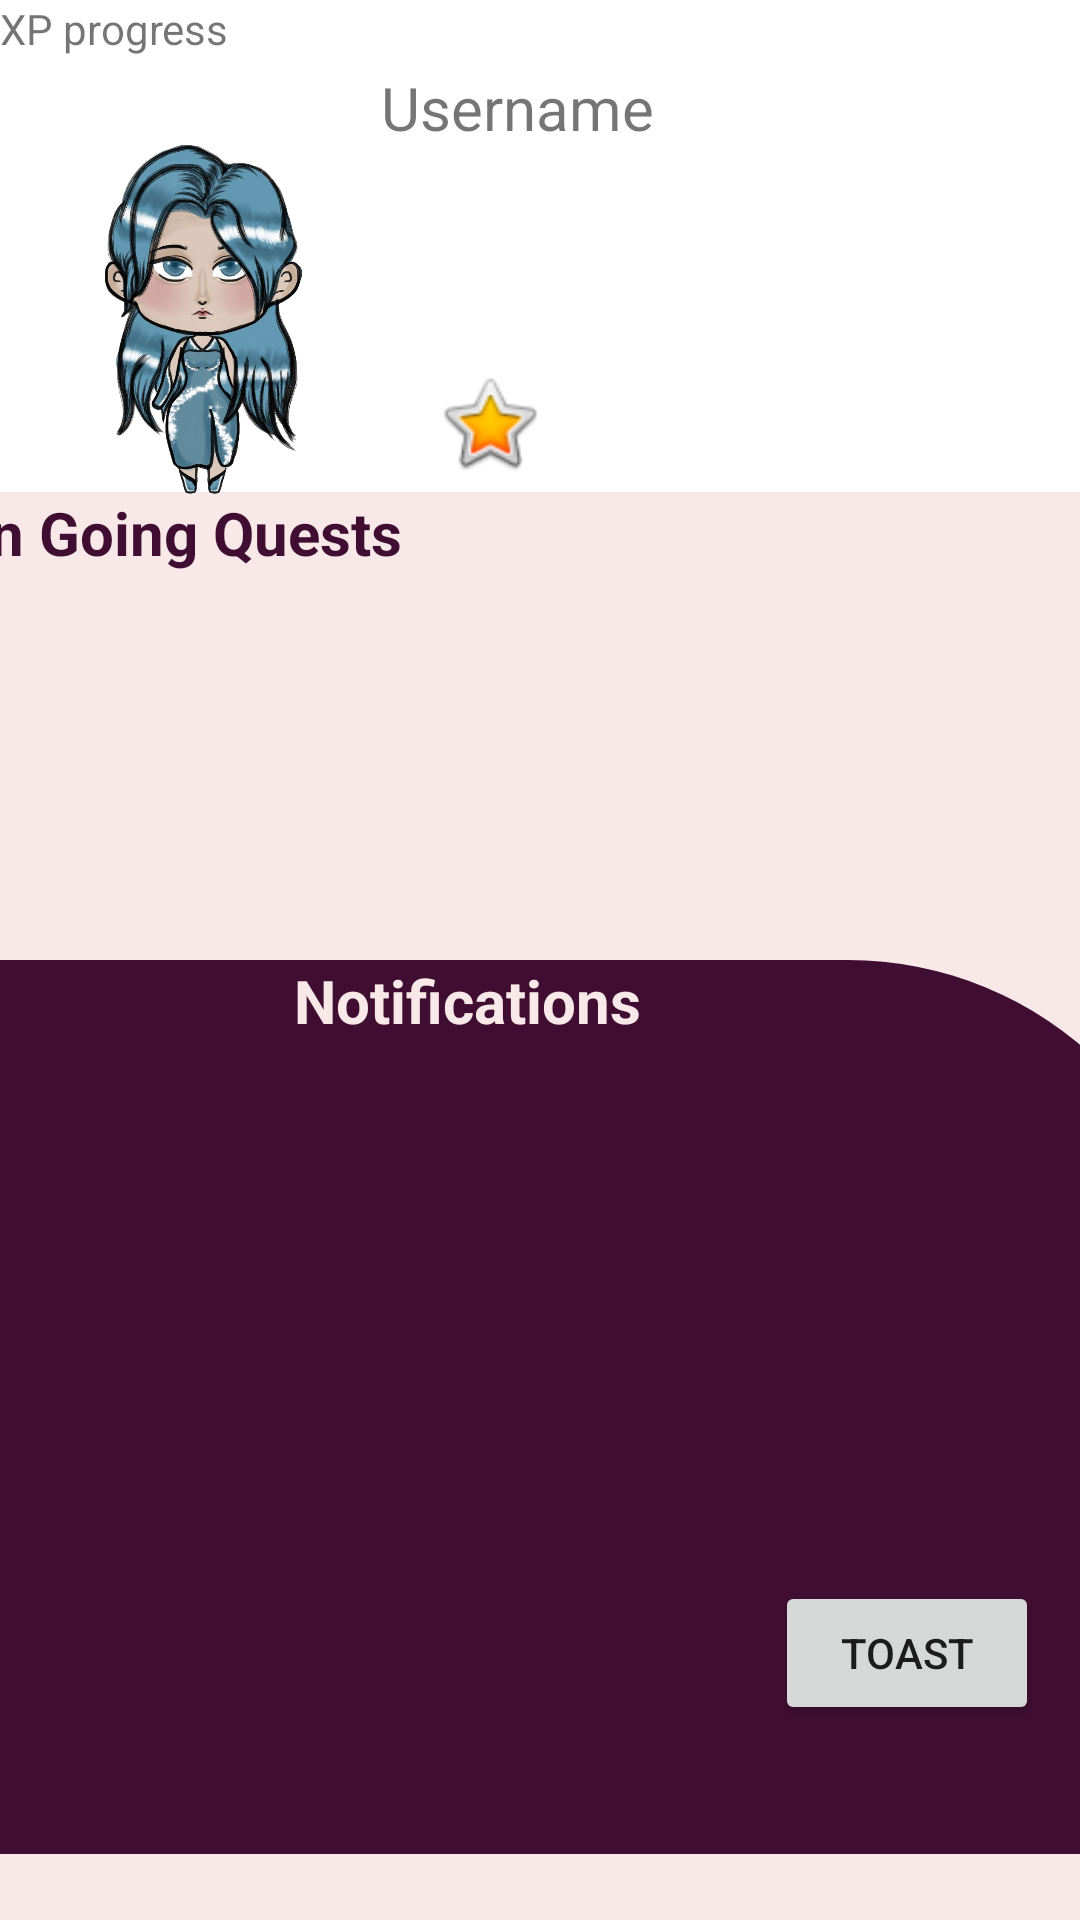

Icon click points for this 1080px×1920px phone screenshot, format (x=x, y=y):
star on: (x=490, y=424)
